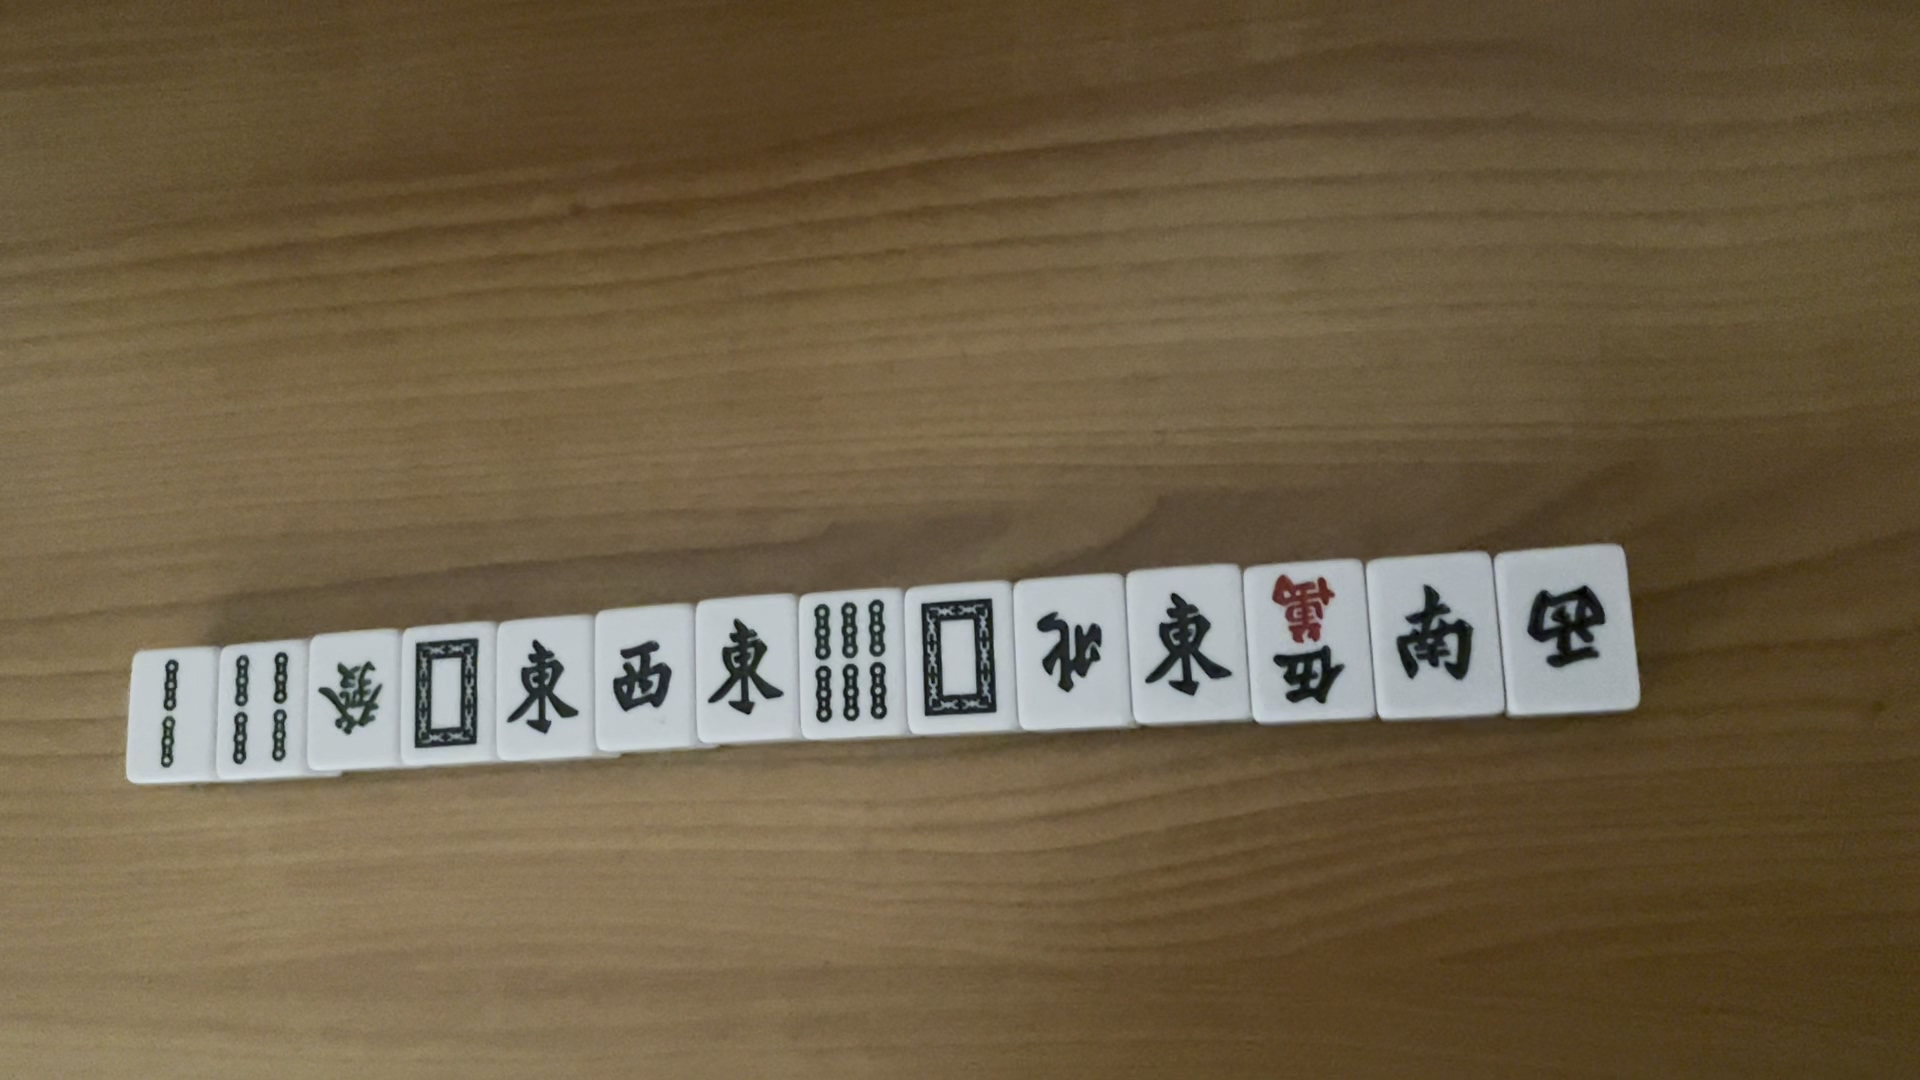b-2: (148, 659, 189, 781)
b-4: (222, 641, 294, 764)
b-6: (804, 596, 899, 731)
c-5: (1258, 568, 1346, 708)
honors-east: (1139, 589, 1238, 708), (703, 611, 790, 723), (502, 634, 584, 742)
honors-green: (315, 657, 389, 738)
honors-north: (1029, 604, 1109, 695)
honors-south: (1381, 579, 1486, 694)
honors-west: (1518, 579, 1611, 673), (603, 633, 678, 720)
honors-white: (915, 593, 1004, 721), (406, 633, 487, 754)
